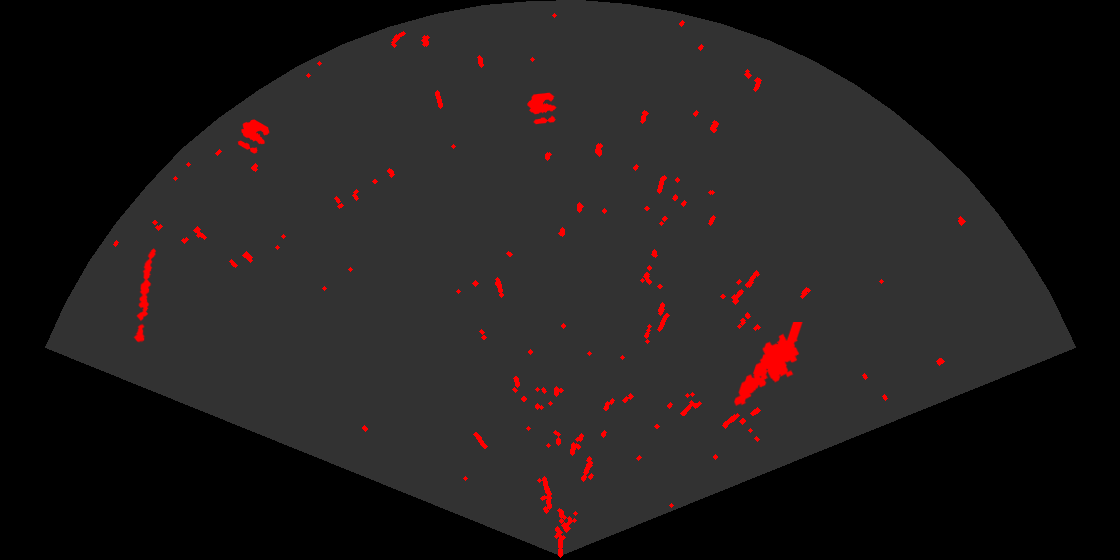ball: (236, 118, 271, 155), (526, 91, 558, 126)
chain: (132, 247, 158, 343)
frogman: (732, 322, 804, 408)
